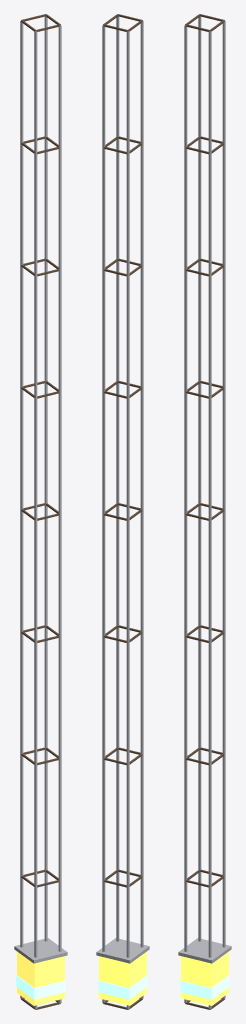
File: 10_shaft_lift.glb
3 views of the same model, side by side, from view 1: azimuth 30°, elevation 25°; view 2: azimuth 150°, elevation 25°; view 3: azimuth 330°, elevation 25° (orthographic).
Parts seen in each view (by area): view 1: shaft_lift_guides_steel, shaft_lift_guides_irondark, shaft_lift_car_signal, shaft_lift_car_steel, shaft_lift_car_glass_nocol; view 2: shaft_lift_guides_steel, shaft_lift_guides_irondark, shaft_lift_car_signal, shaft_lift_car_steel, shaft_lift_car_glass_nocol; view 3: shaft_lift_guides_steel, shaft_lift_guides_irondark, shaft_lift_car_signal, shaft_lift_car_steel, shaft_lift_car_glass_nocol.
Part boxes in pixels (left/top/right/bottom): shaft_lift_guides_steel: left=20, top=16, right=61, bottom=1009; shaft_lift_guides_irondark: left=21, top=14, right=60, bottom=1009; shaft_lift_car_signal: left=17, top=951, right=64, bottom=1005; shaft_lift_car_steel: left=14, top=938, right=67, bottom=963; shaft_lift_car_glass_nocol: left=16, top=975, right=65, bottom=999; shaft_lift_guides_steel: left=102, top=16, right=143, bottom=1009; shaft_lift_guides_irondark: left=103, top=14, right=142, bottom=1009; shaft_lift_car_signal: left=99, top=951, right=146, bottom=1005; shaft_lift_car_steel: left=96, top=938, right=149, bottom=963; shaft_lift_car_glass_nocol: left=98, top=975, right=147, bottom=999; shaft_lift_guides_steel: left=184, top=16, right=225, bottom=1009; shaft_lift_guides_irondark: left=185, top=14, right=224, bottom=1009; shaft_lift_car_signal: left=181, top=951, right=228, bottom=1005; shaft_lift_car_steel: left=178, top=938, right=231, bottom=963; shaft_lift_car_glass_nocol: left=180, top=975, right=229, bottom=999.
Bounding box in the file's own units: 5.6 × 155 × 5.6.
